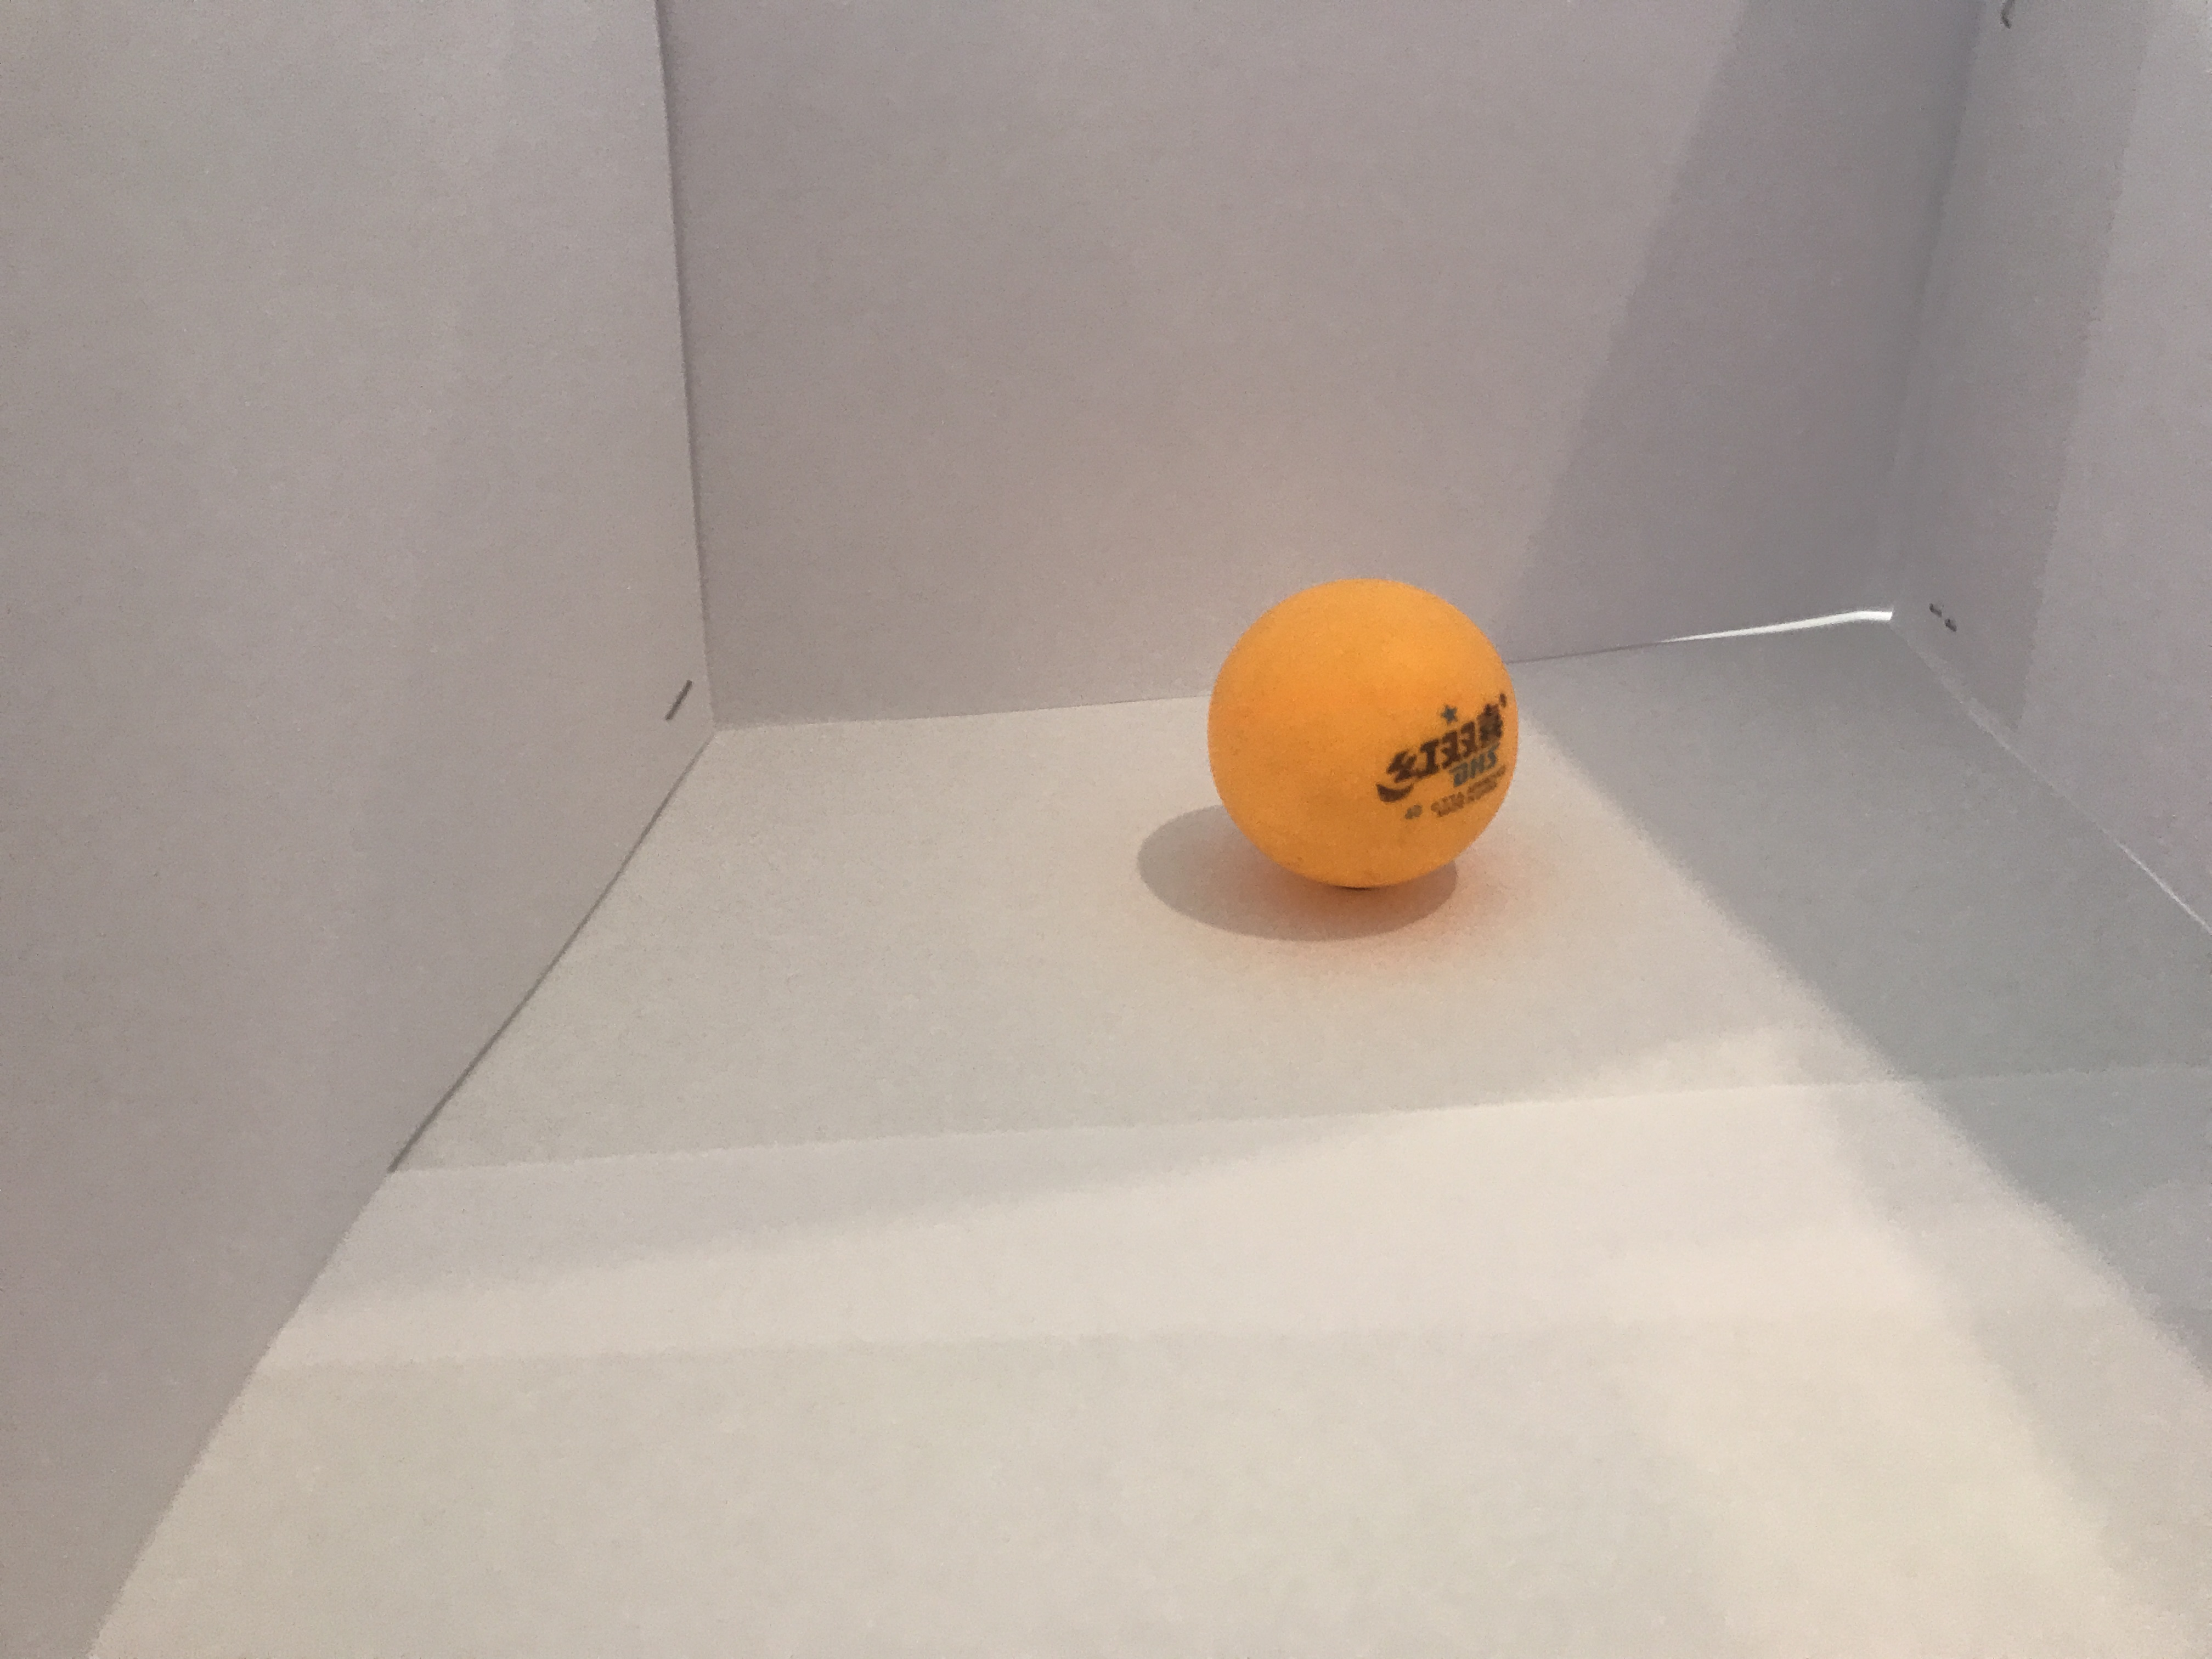pp: (1195, 565, 1524, 901)
